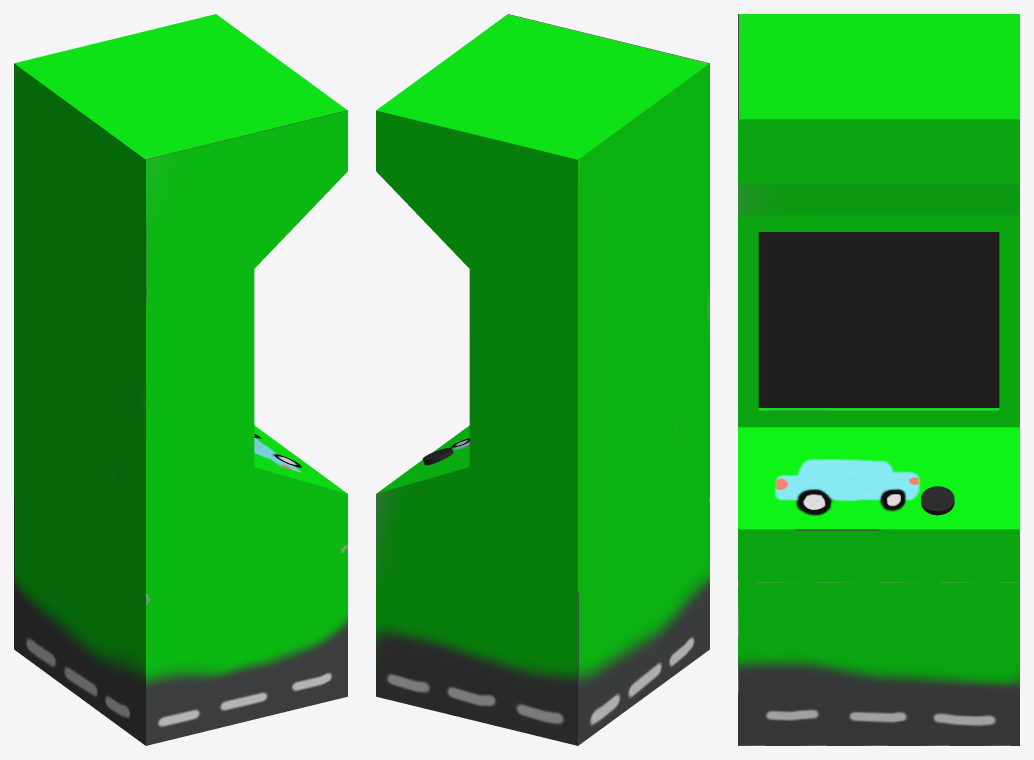
Rendered from arcade_2.glb.
The picture shows the model from 3 angles, left to right: view 1: azimuth 30°, elevation 25°; view 2: azimuth 150°, elevation 25°; view 3: azimuth 270°, elevation 25°; orthographic projection. The views are drawn at different scales.
Visible parts, largest first — view 1: Machine; view 2: Machine; view 3: Machine, Screen.
Part boxes in pixels (box(x1,y1,x2,y2)): Machine: box(14, 14, 347, 745); Machine: box(376, 14, 709, 745); Machine: box(738, 14, 1019, 745); Screen: box(758, 232, 999, 515).
Bounding box in the file's own units: 0.6493 × 1.8 × 0.7339.
Materials: 2 (1 with a texture image).
